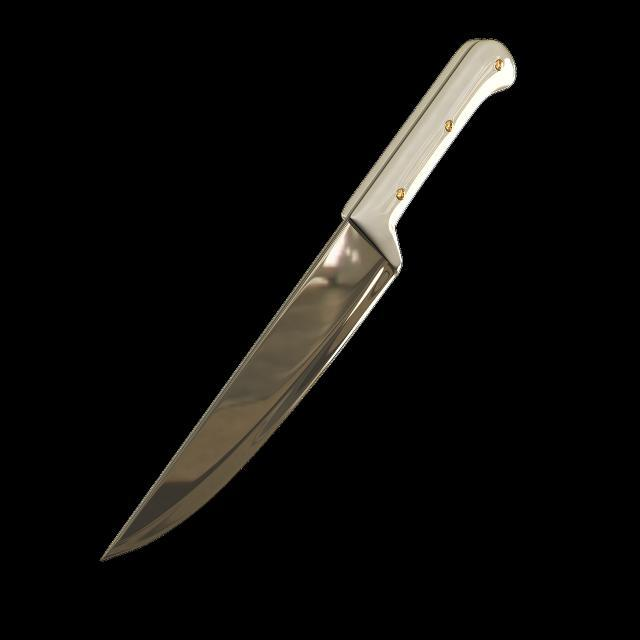Knife: (102, 39, 515, 559)
